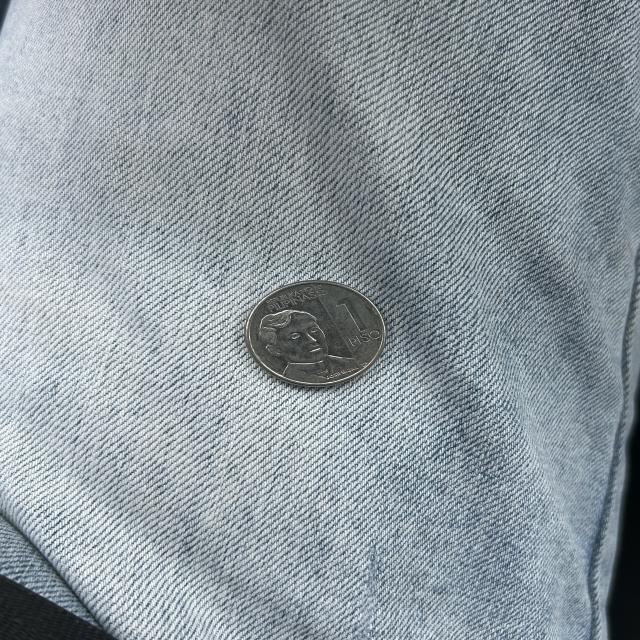1_New_Front: (326, 296, 387, 350)
